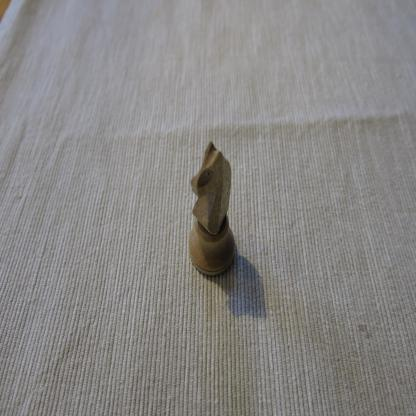white-knight: (188, 140, 236, 279)
